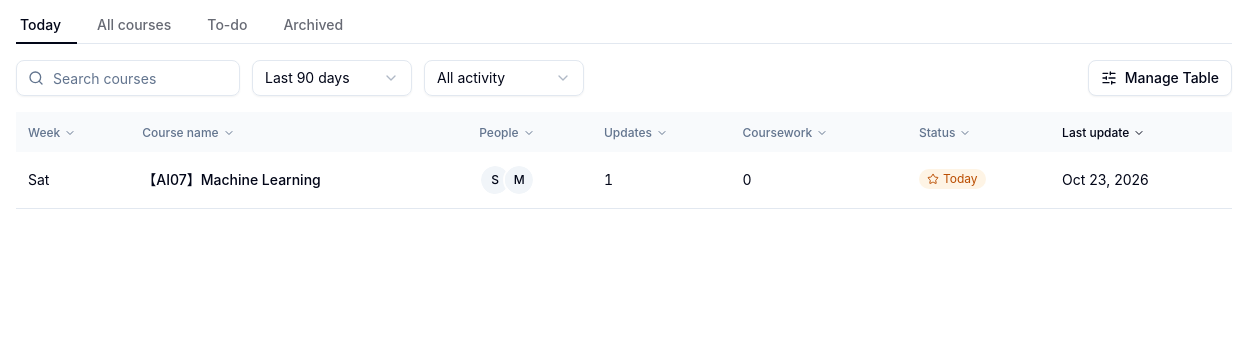
Test: CoursesListPage › lists courses with their activity and status
The image size is (1249, 338).
Step 1. Click the tab "All courses" → click(134, 26), box [81, 8, 187, 44]
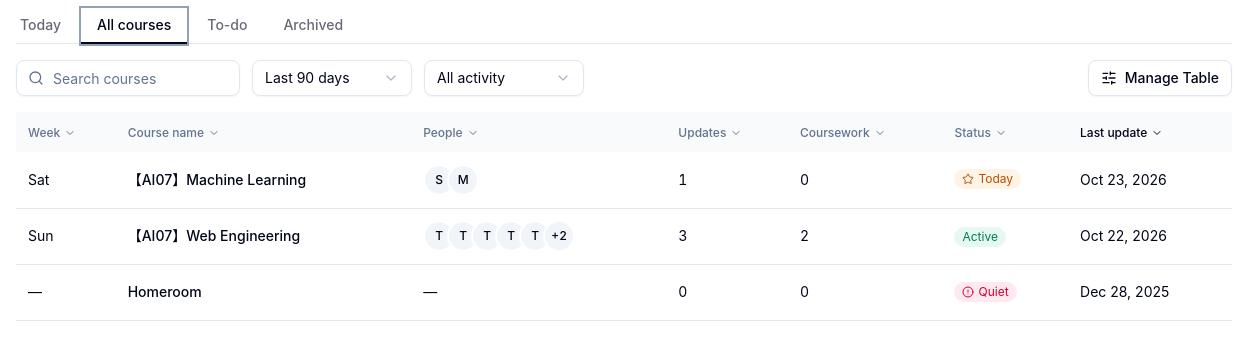
Now the button "【AI07】Web Engineering" is shown, box [128, 226, 300, 246]
Now the row that starts with "Sun" shows "Active", box [962, 228, 998, 244]
Now the row "— Homeroom — 0 0 Quiet Dec 28, 2025" is shown, box [16, 264, 1232, 320]
